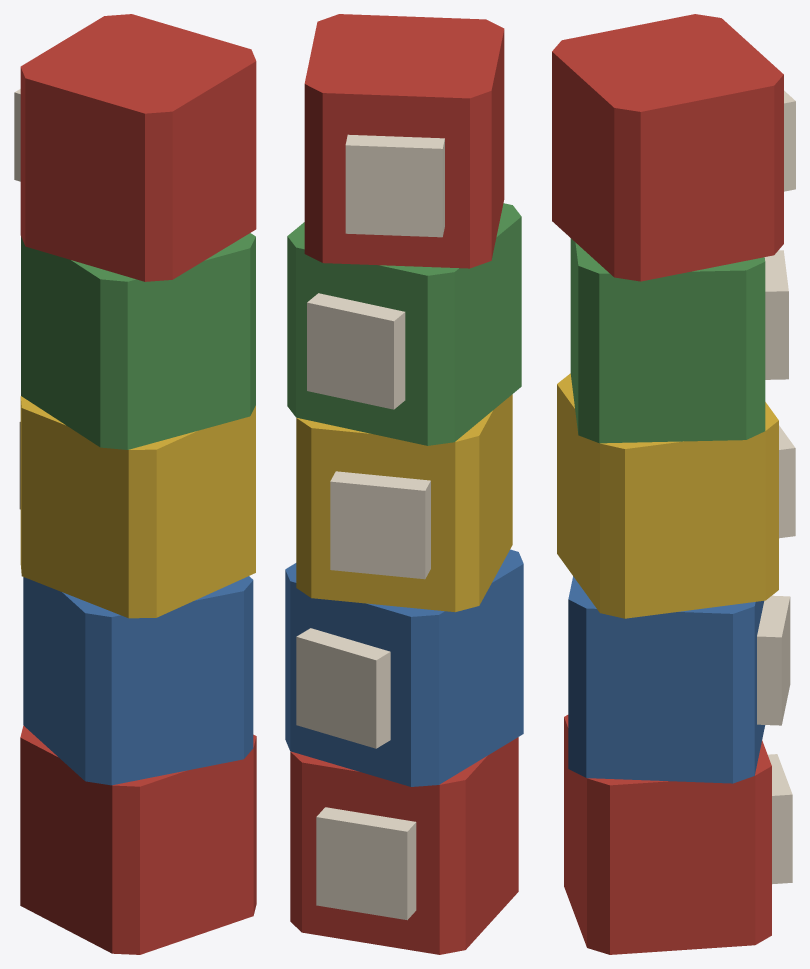
The model's file is SM_LPI_Kids_Blocks_01.fbx.
The picture shows the model from 3 angles, left to right: view 1: azimuth 30°, elevation 25°; view 2: azimuth 150°, elevation 25°; view 3: azimuth 270°, elevation 25°; orthographic projection.
Visible parts, largest first — view 1: SM_LPI_Kids_Blocks_01; view 2: SM_LPI_Kids_Blocks_01; view 3: SM_LPI_Kids_Blocks_01.
Part boxes in pixels (x1,y1,x2,y2): SM_LPI_Kids_Blocks_01: (14,14,256,954); SM_LPI_Kids_Blocks_01: (285,14,523,954); SM_LPI_Kids_Blocks_01: (552,14,795,954).
Size of the model in its own units: 0.0929 by 0.375 by 0.0977.
